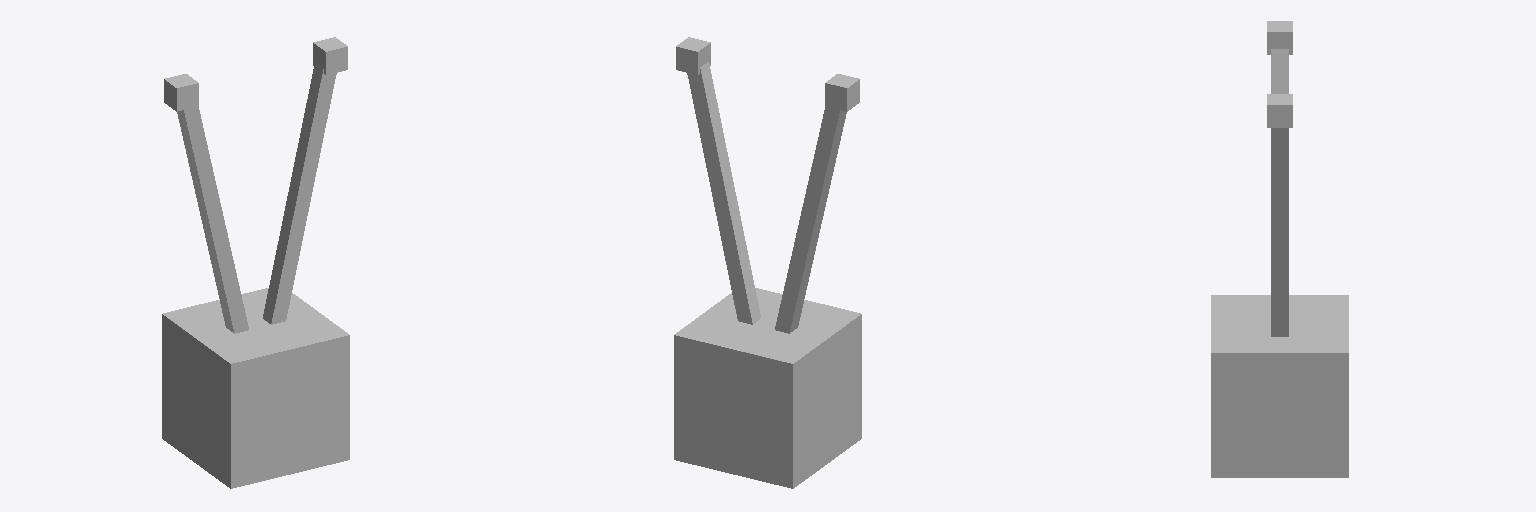
File: jacobs_ladder.obj
The picture shows the model from 3 angles: view 1: azimuth 30°, elevation 25°; view 2: azimuth 150°, elevation 25°; view 3: azimuth 270°, elevation 25°; orthographic projection.
Visible parts, largest first — view 1: Cube_Cube.003; view 2: Cube_Cube.003; view 3: Cube_Cube.003.
Boxes of the visible parts, <box> form: Cube_Cube.003: <box>162,37,349,488</box>; Cube_Cube.003: <box>674,37,861,488</box>; Cube_Cube.003: <box>1211,21,1348,477</box>.
Bounding box in the file's own units: 1.44 × 3.09 × 1.